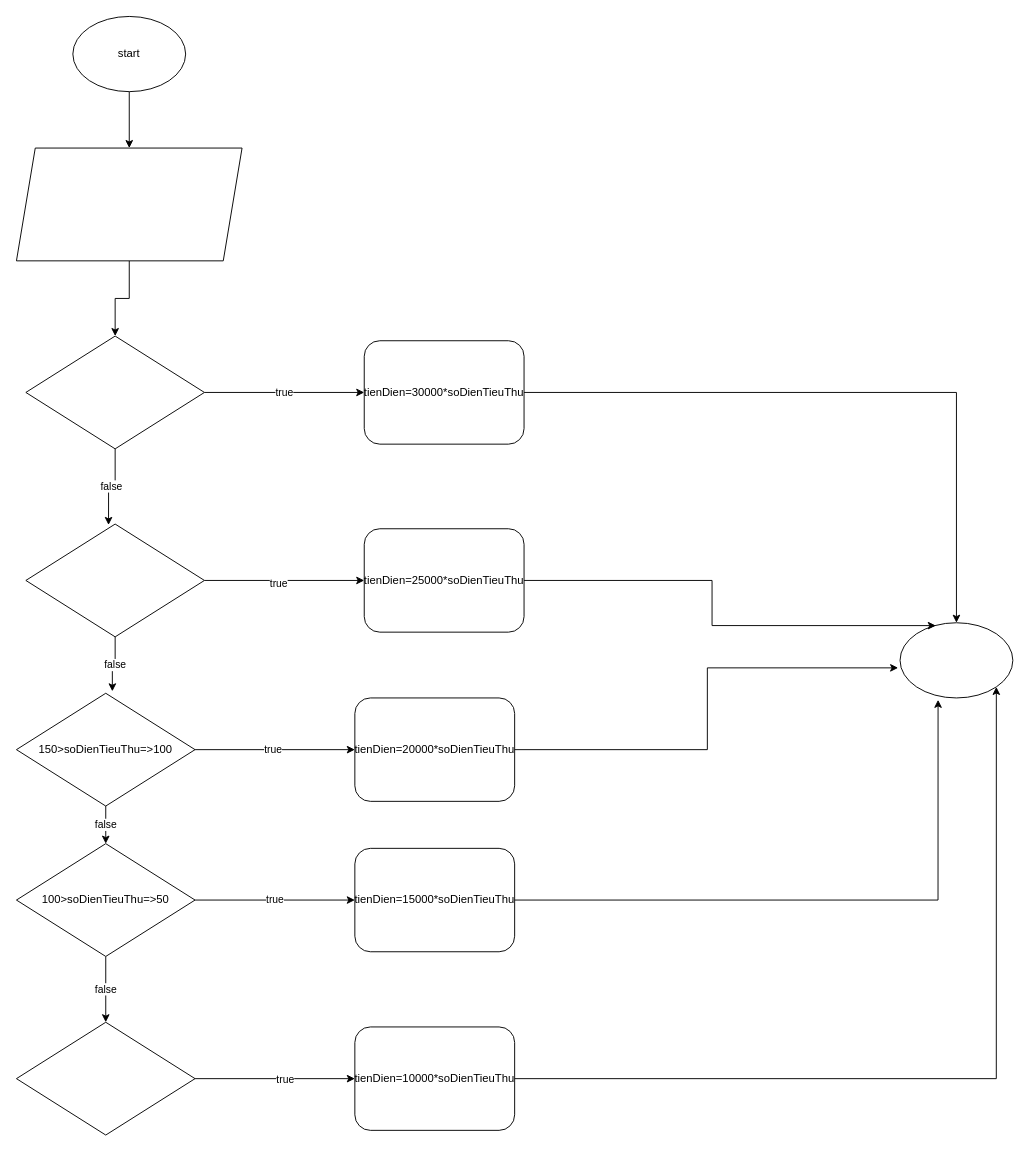
The diagram is 1029 pixels wide and 1152 high, and some of its shapes have lost their labels. The shapes that lost their labels are listed below. From the top down, each one's centre as x and y in pixels, then its label:
At point 129,204: "soDienCu,soDienMoi, ,soDienTieuThu=soDienMoi-soDienCu,tienDien".
At point 114,392: "soDienTieuThu>200".
At point 114,580: "200>soDienTieuThu=>150".
At point 105,1078: "50>soDienTieuThu=>0".
